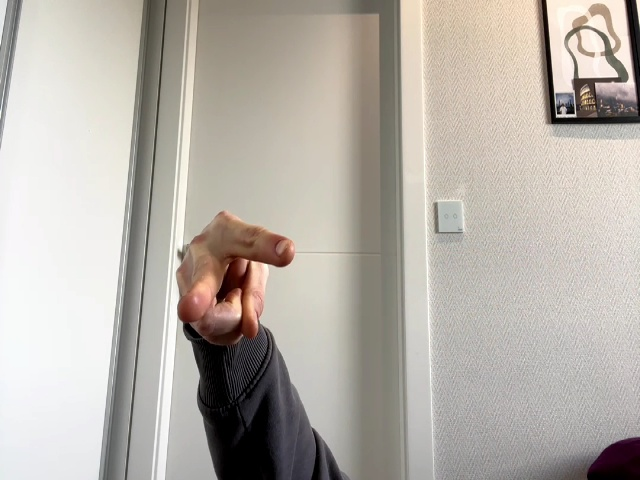U: (176, 210, 294, 345)
